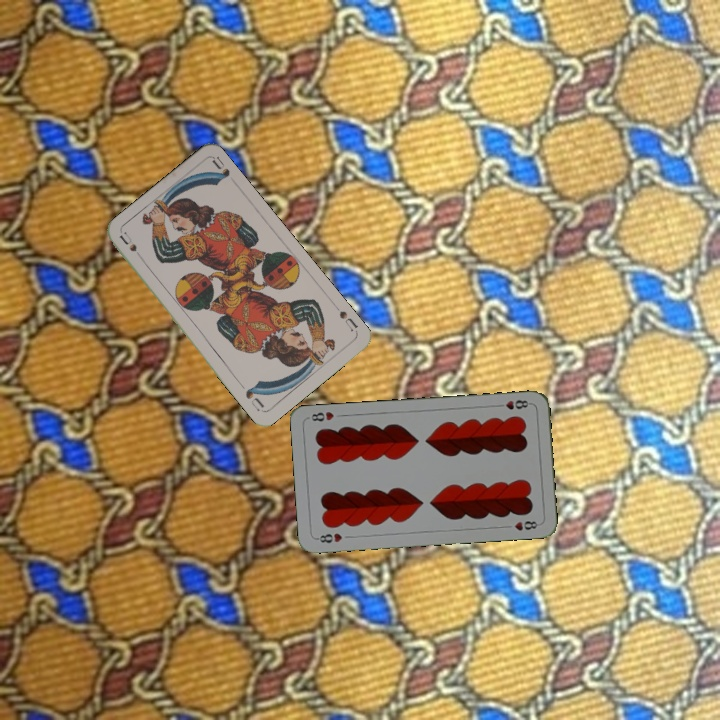H8: (493, 396, 533, 412), (313, 529, 345, 545)
SU: (115, 228, 147, 265), (335, 307, 360, 334)
